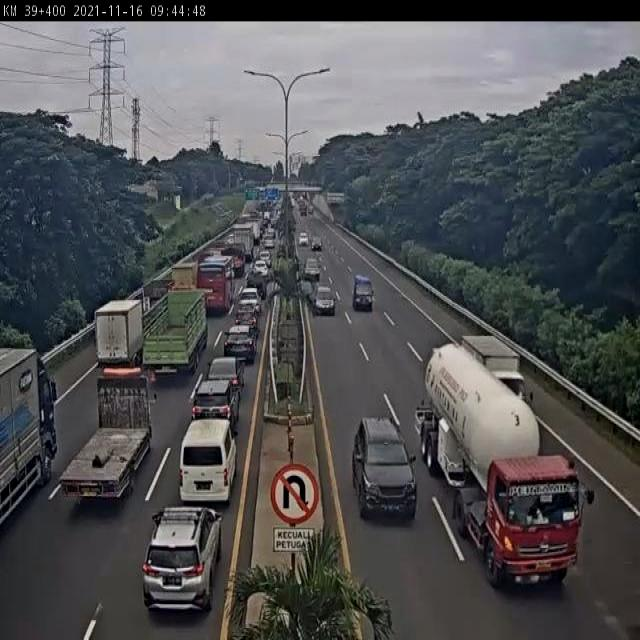Bus: (198, 254, 235, 315)
Car: (141, 505, 222, 612), (351, 416, 416, 520), (191, 377, 241, 427), (224, 322, 258, 358), (205, 355, 244, 382), (236, 284, 264, 312), (313, 285, 336, 314), (234, 302, 258, 325), (303, 258, 322, 280), (253, 259, 269, 273), (262, 233, 274, 246), (298, 232, 308, 247), (311, 237, 322, 249), (259, 250, 271, 259)
Truck: (415, 338, 595, 590), (60, 365, 160, 505), (0, 346, 60, 532), (142, 288, 208, 378), (458, 332, 535, 406), (94, 297, 144, 367), (221, 240, 246, 275), (232, 224, 255, 262), (352, 276, 374, 313), (174, 260, 201, 288), (141, 279, 173, 299), (244, 218, 261, 242)
Van: (178, 421, 238, 504)
